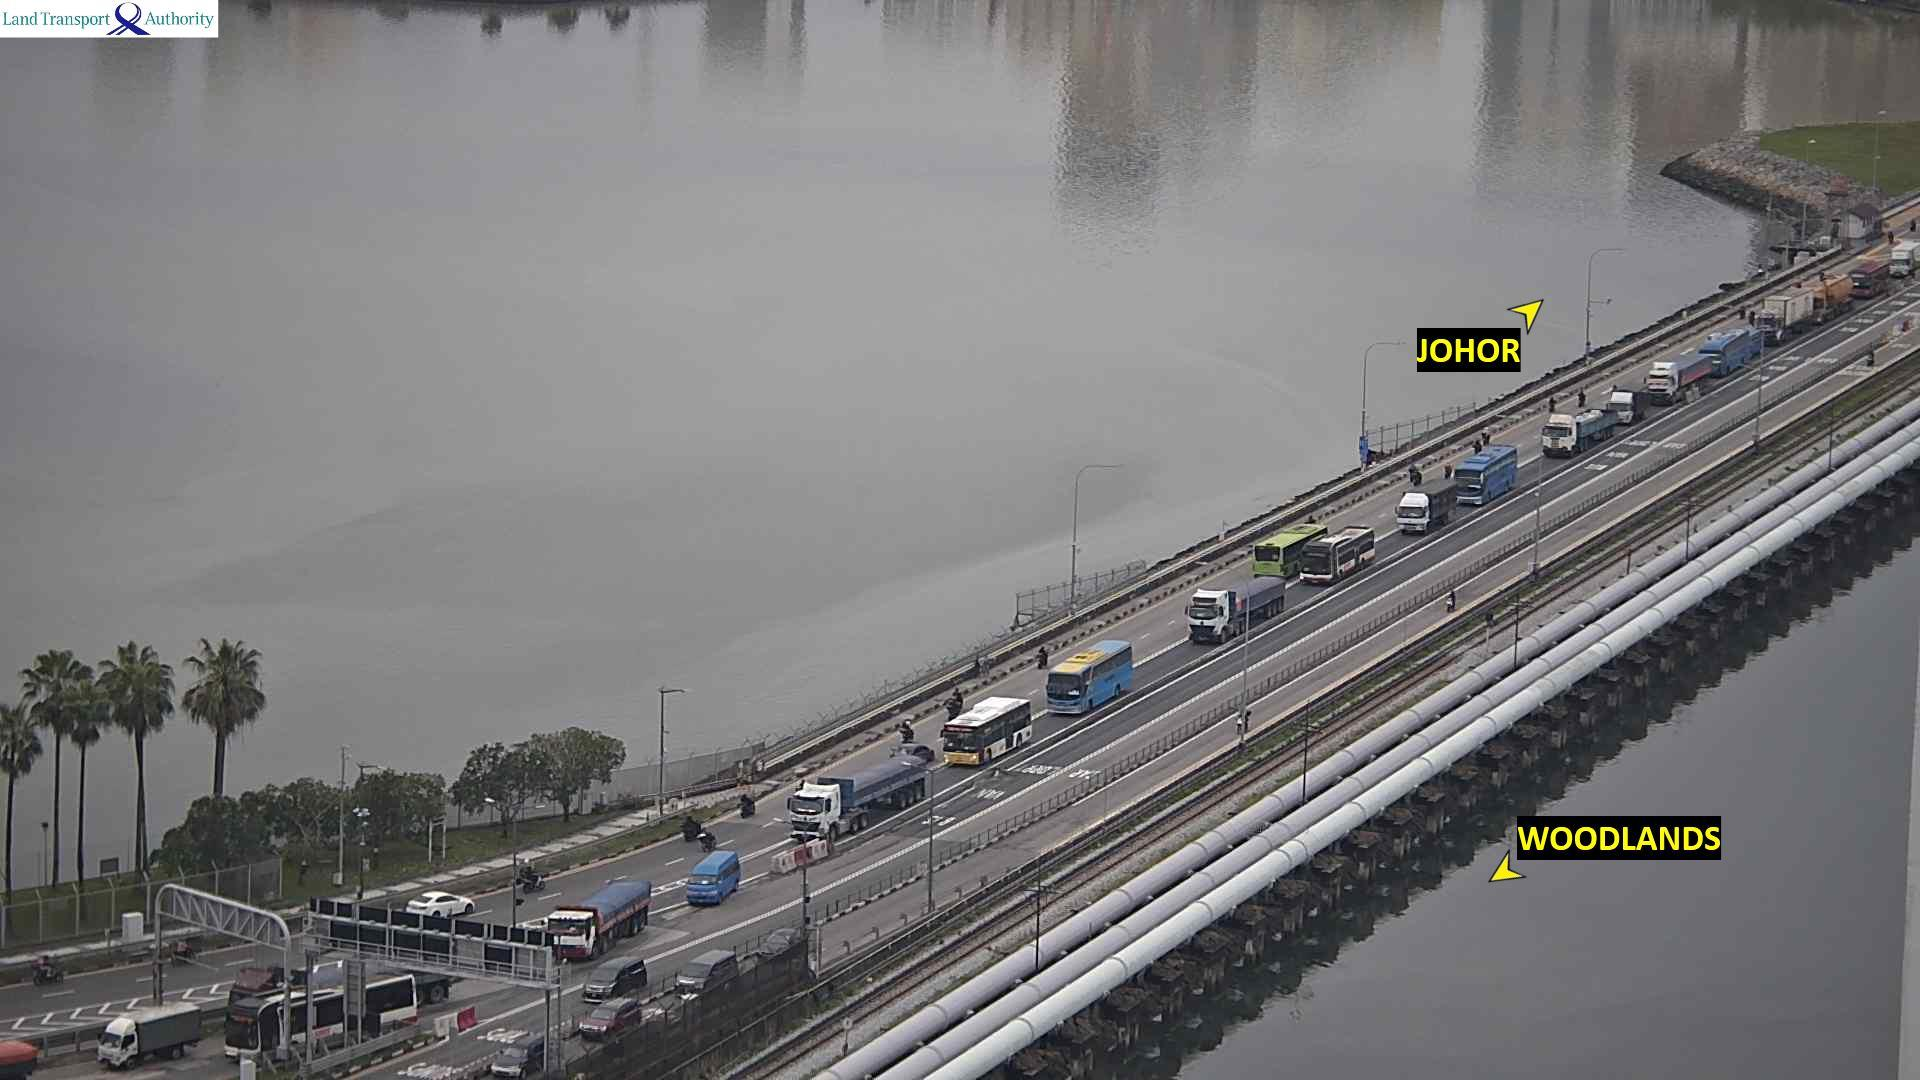vehicle-causeway-johor: (1254, 525, 1327, 575), (407, 891, 475, 916), (409, 891, 472, 914), (167, 936, 198, 964), (34, 955, 61, 985), (525, 861, 545, 890), (526, 861, 543, 889), (948, 687, 964, 712), (679, 816, 698, 837), (700, 827, 716, 849), (740, 794, 756, 816), (679, 815, 698, 833), (740, 793, 756, 812), (899, 721, 915, 740), (1034, 645, 1047, 665), (700, 832, 716, 847), (1410, 463, 1420, 481), (1576, 392, 1585, 407), (1909, 218, 1917, 232), (1887, 231, 1895, 244), (1549, 396, 1556, 409), (1484, 431, 1490, 443), (1738, 306, 1745, 318), (1750, 309, 1755, 323), (1548, 397, 1553, 407), (1473, 440, 1478, 448)
vehicle-causeway-singapore: (231, 969, 464, 1034), (783, 764, 924, 833), (550, 881, 658, 953), (98, 1010, 219, 1075), (1189, 580, 1291, 641), (1042, 644, 1133, 711), (939, 699, 1030, 762), (1303, 530, 1379, 576), (686, 855, 746, 907), (1543, 409, 1619, 448), (1451, 448, 1520, 491), (1756, 287, 1813, 339), (582, 957, 653, 998), (1698, 328, 1759, 373), (571, 998, 640, 1036), (673, 953, 742, 989), (1646, 357, 1721, 390), (491, 1030, 542, 1075), (1801, 273, 1851, 316), (1395, 485, 1448, 524), (1, 1036, 38, 1080), (1609, 385, 1650, 421), (757, 928, 799, 961), (1850, 261, 1888, 294), (1394, 513, 1445, 535), (1890, 241, 1920, 277), (1444, 587, 1455, 613), (1866, 342, 1875, 363)
